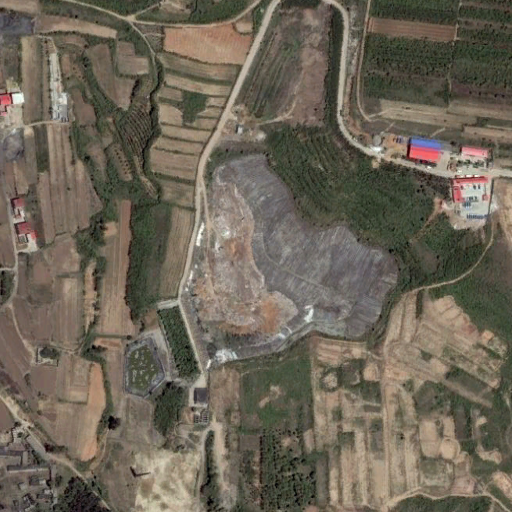lf: (159, 158, 398, 353)
